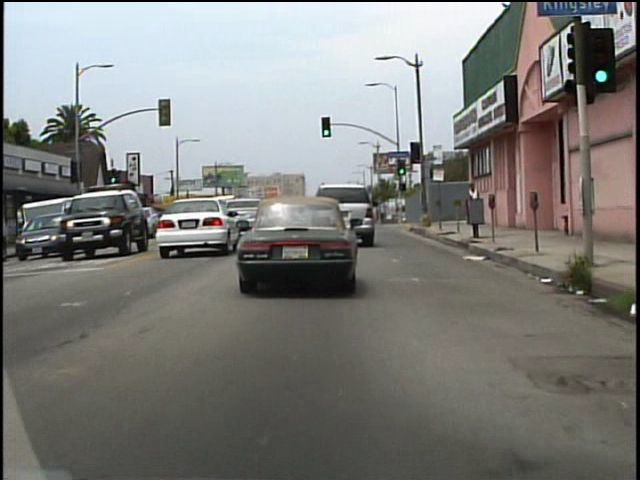person: (464, 183, 482, 231)
